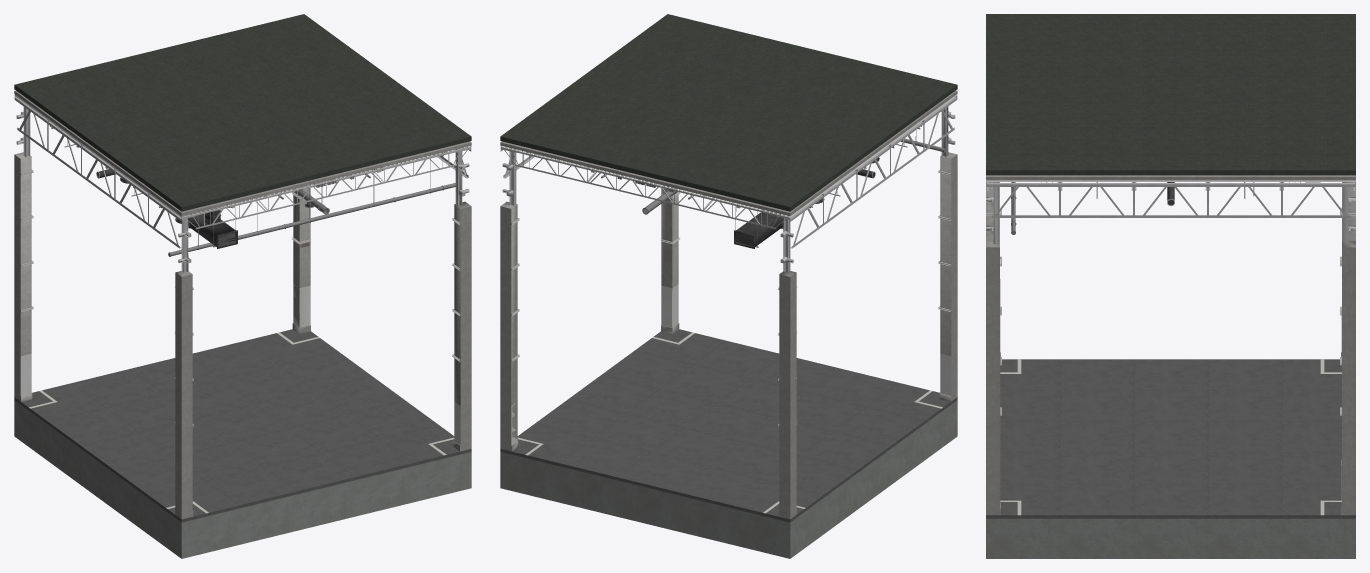
File: hall_center.glb
3 views of the same model, side by side, from view 1: azimuth 30°, elevation 25°; view 2: azimuth 150°, elevation 25°; view 3: azimuth 270°, elevation 25° (orthographic). The views are drawn at different scales.
Parts seen in each view (by area): view 1: modular_warehouse_h10m_center_01_mesh_00; view 2: modular_warehouse_h10m_center_01_mesh_00; view 3: modular_warehouse_h10m_center_01_mesh_00.
Boxes of the visible parts, box(x1,y1,x2,y2) form: modular_warehouse_h10m_center_01_mesh_00: box(14, 14, 471, 558); modular_warehouse_h10m_center_01_mesh_00: box(500, 14, 957, 558); modular_warehouse_h10m_center_01_mesh_00: box(986, 14, 1355, 558).
Bounding box in the file's own units: 10 × 11.6 × 10.
17 materials, 16 textured.
